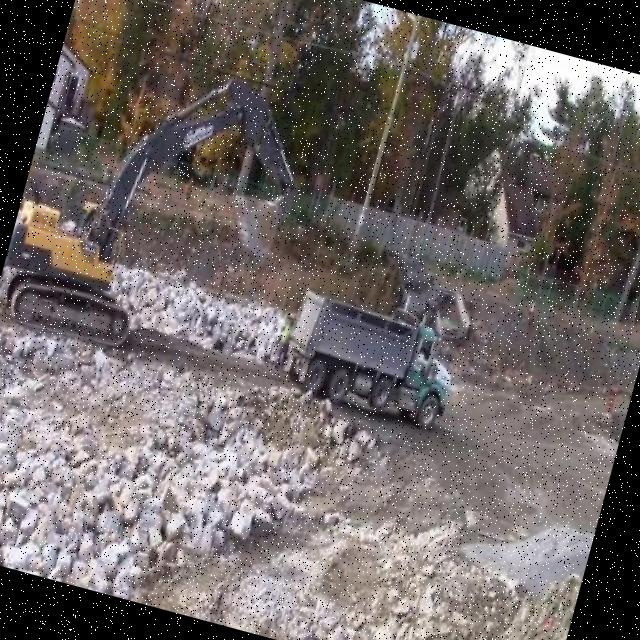Dump Truck: (269, 272, 470, 440)
Excavator: (0, 15, 323, 395)
